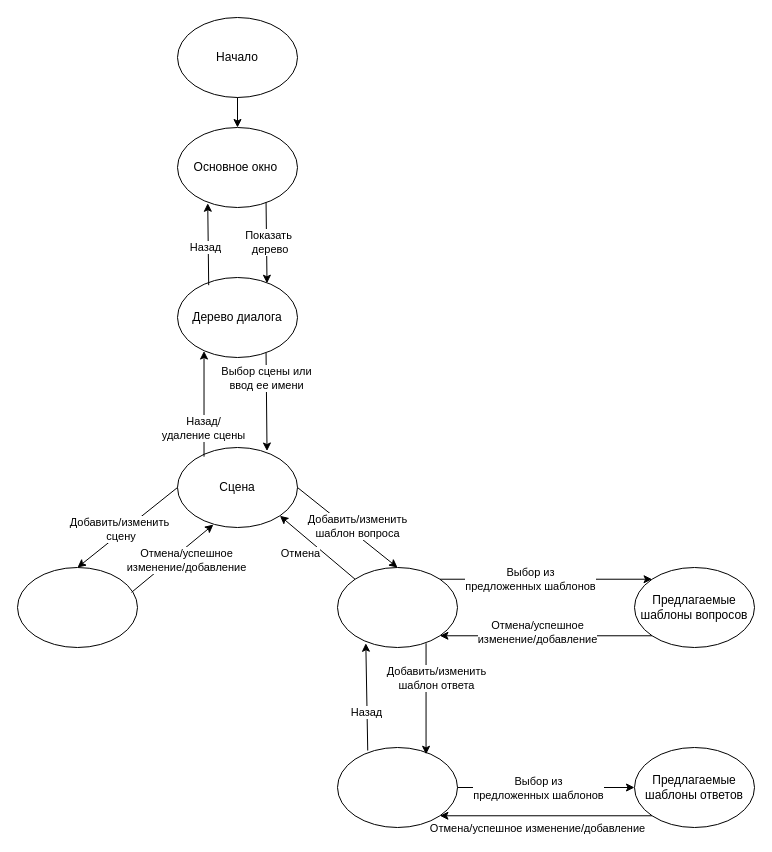
The diagram is 772 pixels wide and 852 high, and some of its shapes have lost their labels. Each missing label, with the centre of its shape:
"Изменение/редактирование сцены" goes at (x=77, y=607).
"Шаблон вопроса" goes at (x=397, y=607).
"Шаблон ответа" goes at (x=397, y=787).
